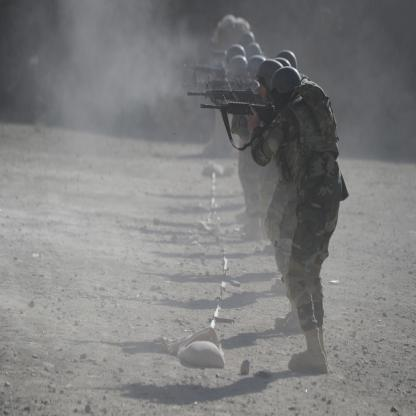Helmet: (223, 30, 306, 115), (270, 66, 303, 110)
